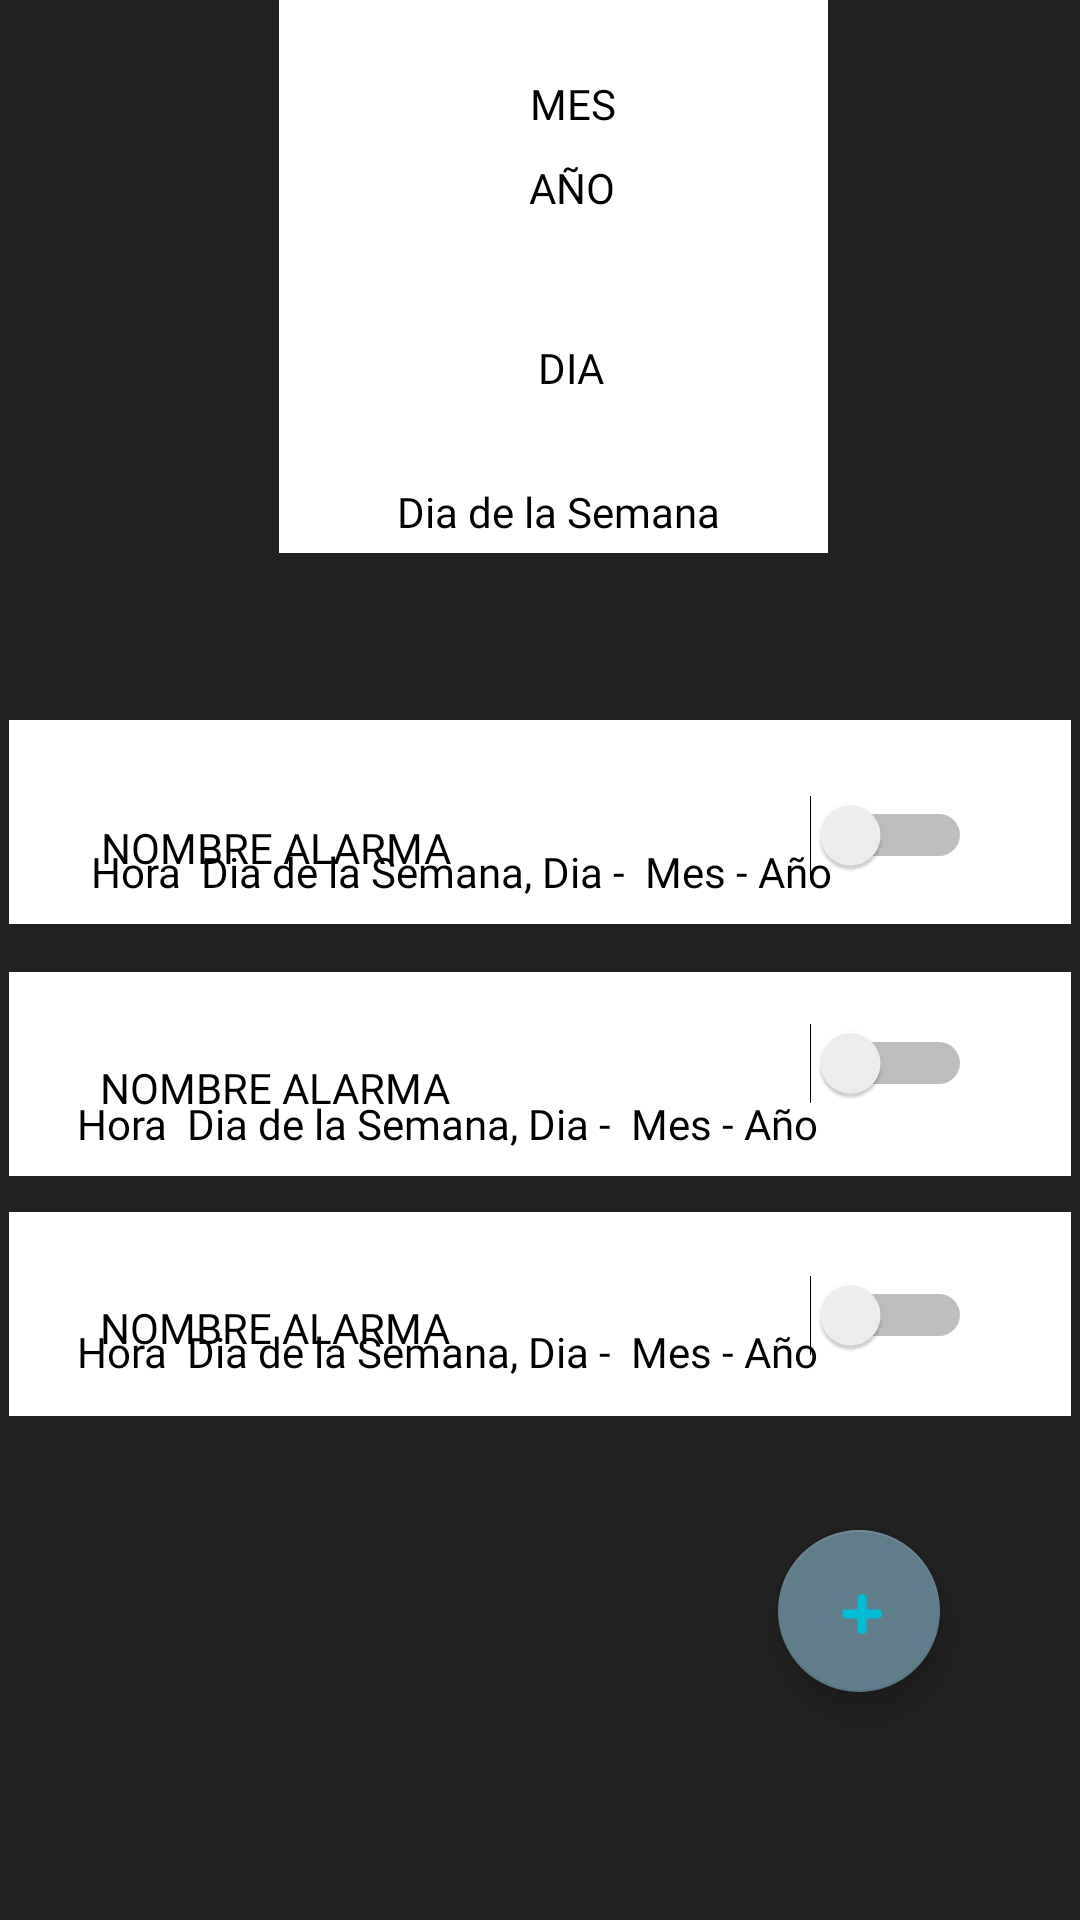

Icon bounding boxes for this 1080px×1920px phone screenshot, format (x1, y1, x2, y2):
add: (778, 1530, 940, 1692)
